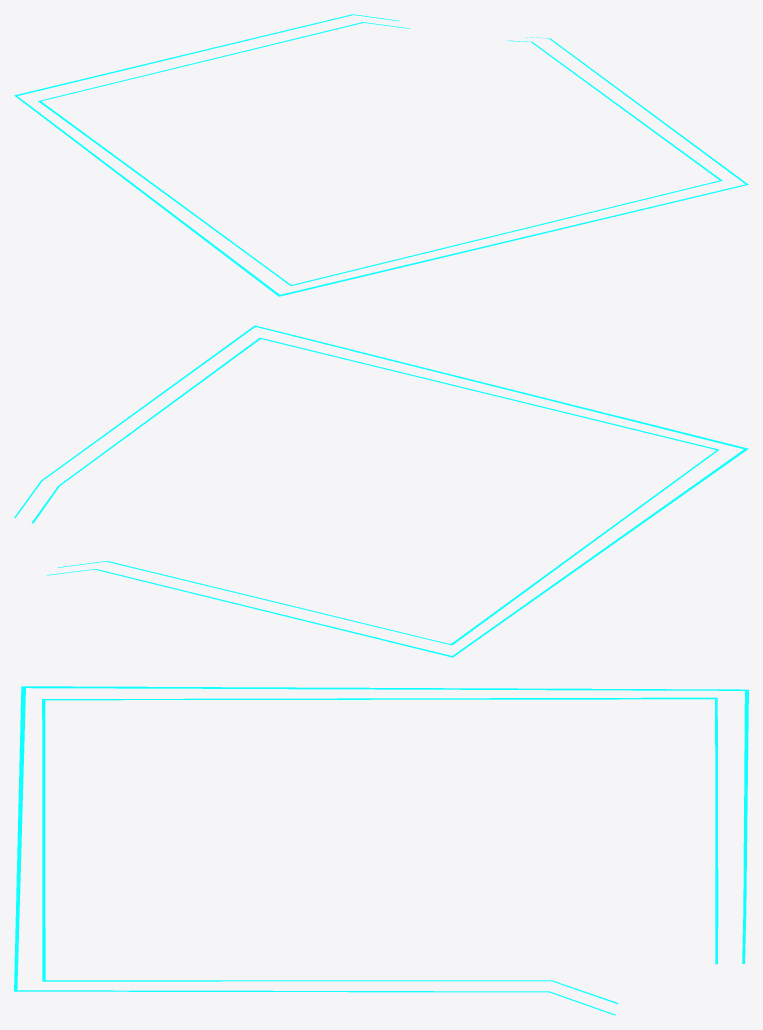
The picture shows the model from 3 angles, top to bottom: view 1: azimuth 30°, elevation 25°; view 2: azimuth 150°, elevation 25°; view 3: azimuth 270°, elevation 25°; orthographic projection. The views are drawn at different scales.
Visible parts, largest first — view 1: Cube; view 2: Cube; view 3: Cube.
Part boxes in pixels (x1,y1,x2,y2): Cube: (14,14,748,296); Cube: (14,325,748,657); Cube: (14,686,748,1015).
Size of what is drawn, in the model's own units: 126 by 4.58 by 127.
